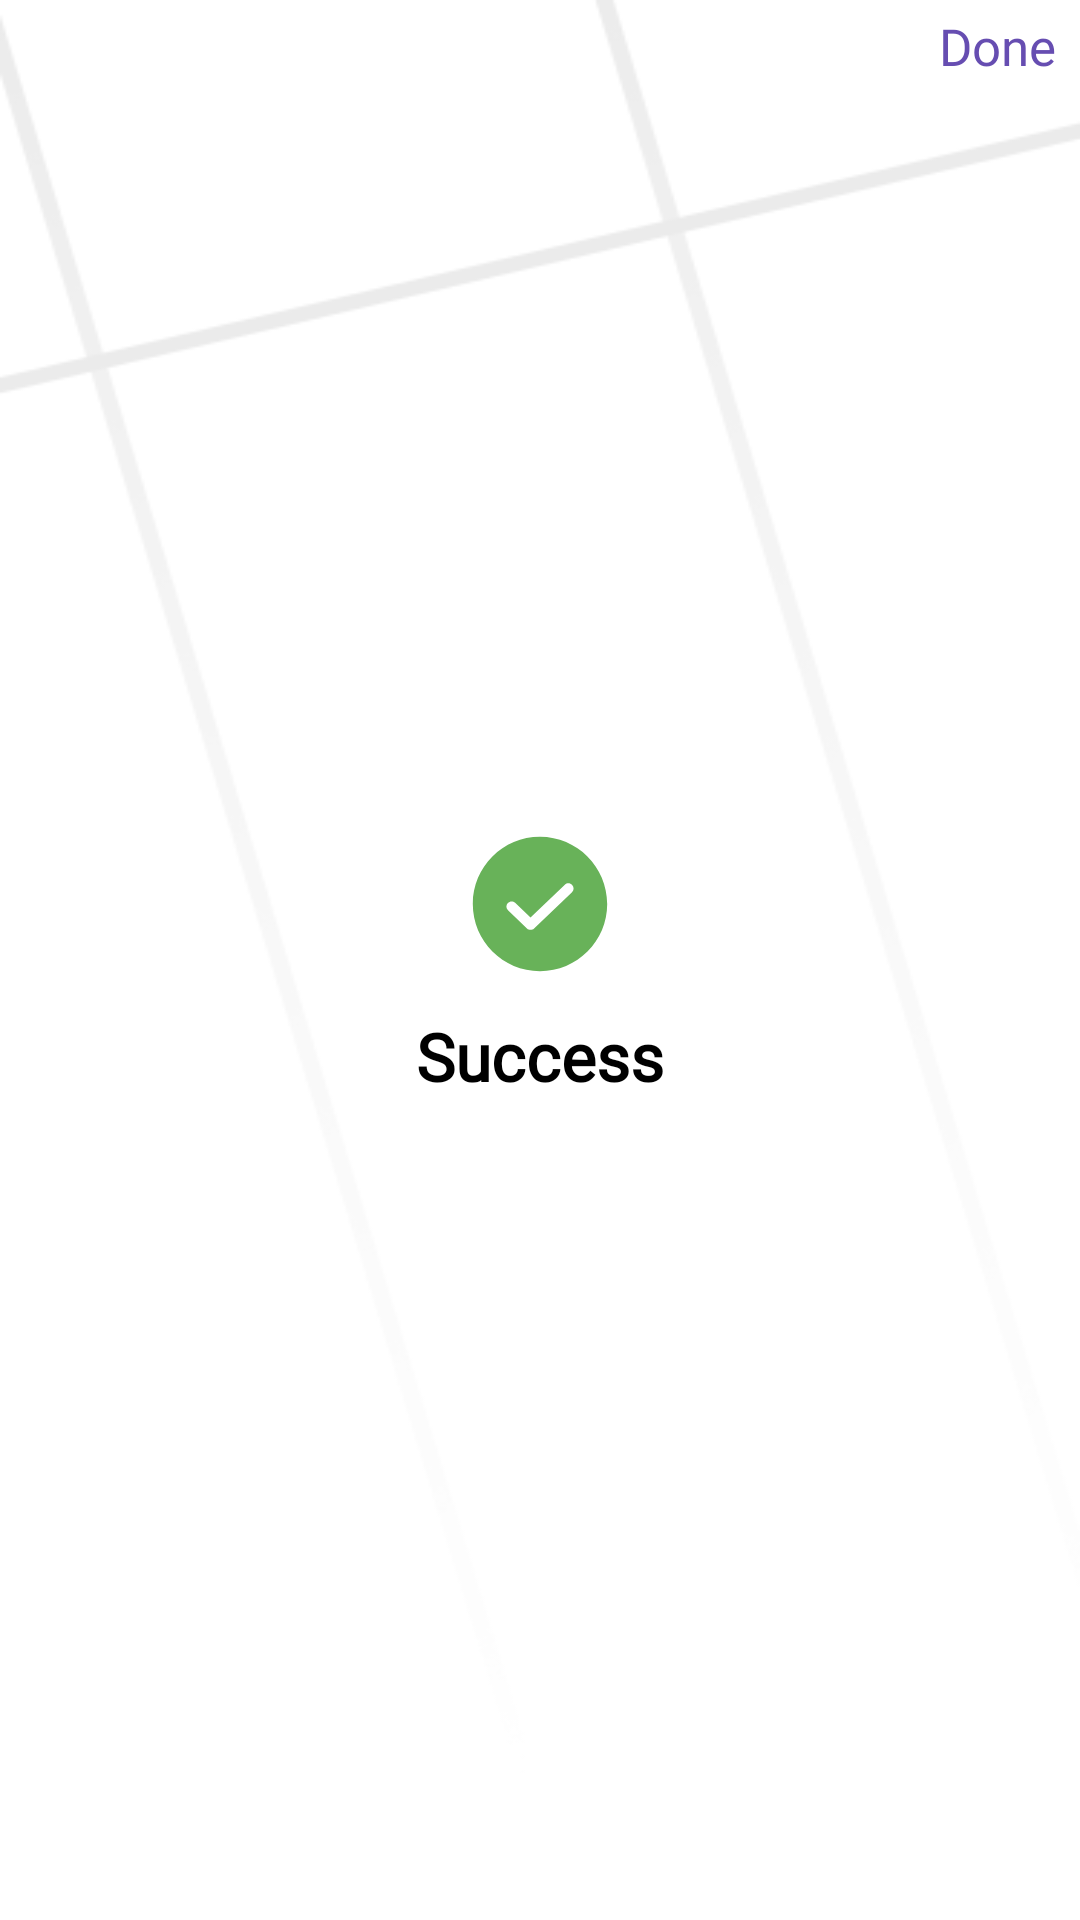

Icons on this 1080px×1920px Android screen, each with its box as (x1, y1, x2, y2):
checkmark: (472, 836, 608, 972)
